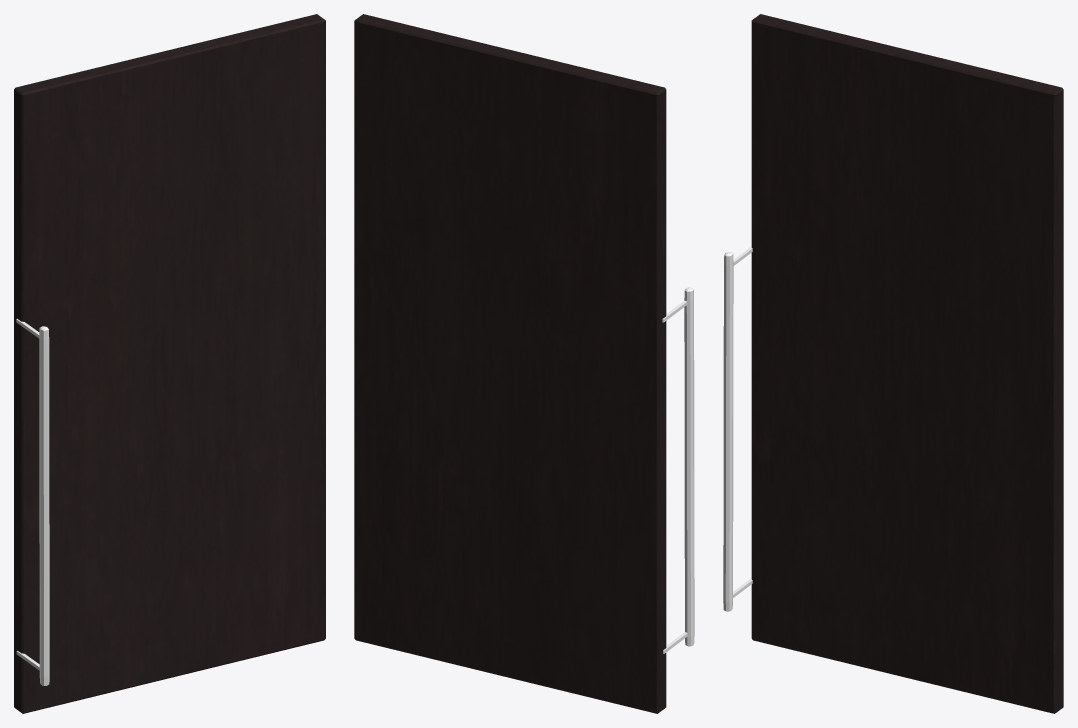
The model's file is Cabinet_1749e892.obj.
The picture shows the model from 3 angles, left to right: view 1: azimuth 30°, elevation 25°; view 2: azimuth 150°, elevation 25°; view 3: azimuth 330°, elevation 25°; orthographic projection.
Parts seen in each view (by area): view 1: DoorMesh_01_a2a49486, CabineDoorHandle1_(3)_01_adb52d5f; view 2: DoorMesh_01_a2a49486, CabineDoorHandle1_(3)_01_adb52d5f; view 3: DoorMesh_01_a2a49486, CabineDoorHandle1_(3)_01_adb52d5f.
Boxes of the visible parts, x1,y1,x2,y2 form: DoorMesh_01_a2a49486: [14, 14, 325, 713]; CabineDoorHandle1_(3)_01_adb52d5f: [16, 318, 49, 685]; DoorMesh_01_a2a49486: [354, 14, 666, 713]; CabineDoorHandle1_(3)_01_adb52d5f: [662, 287, 694, 653]; DoorMesh_01_a2a49486: [751, 14, 1063, 713]; CabineDoorHandle1_(3)_01_adb52d5f: [723, 246, 752, 611].
Bounding box in the file's own units: 0.3899 × 0.75 × 0.0751.
